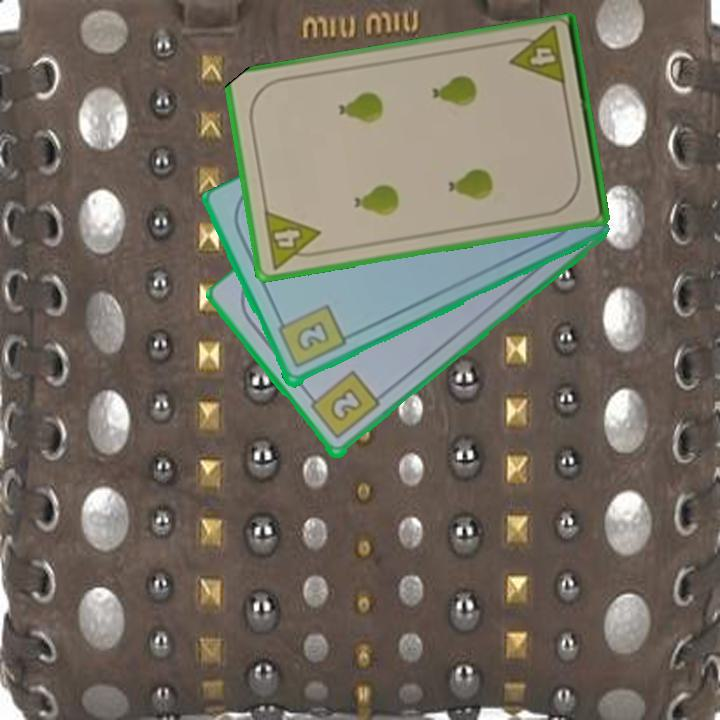2b: (303, 368, 383, 443), (273, 302, 348, 372)
4p: (260, 207, 326, 272), (504, 25, 569, 89)
